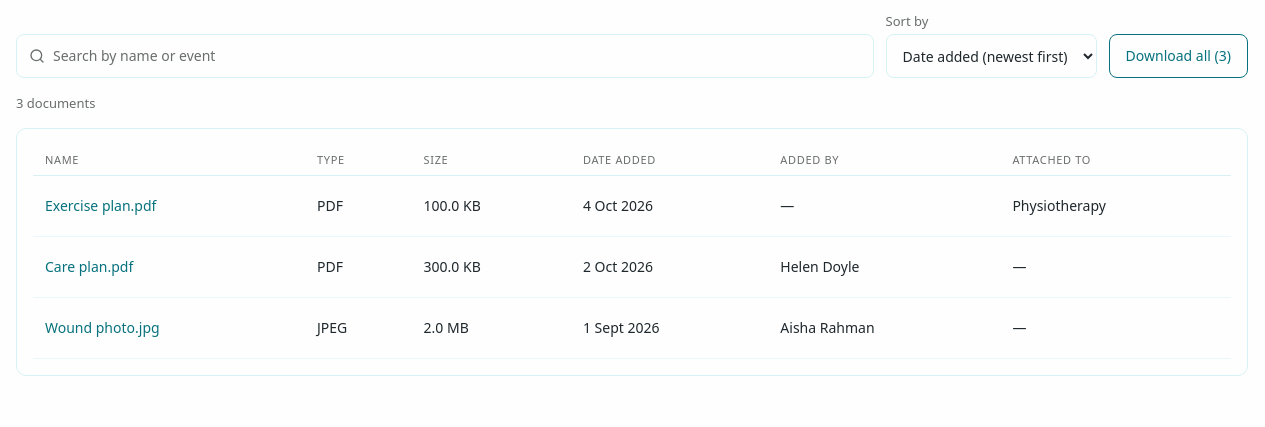
Test: [F0-25][AC-12] opening a document › [F0-25][AC-12] shows the failure message and closes the blank tab
Click the button with aria-label "Open Care plan.pdf": (89, 267) [45, 245, 133, 289]
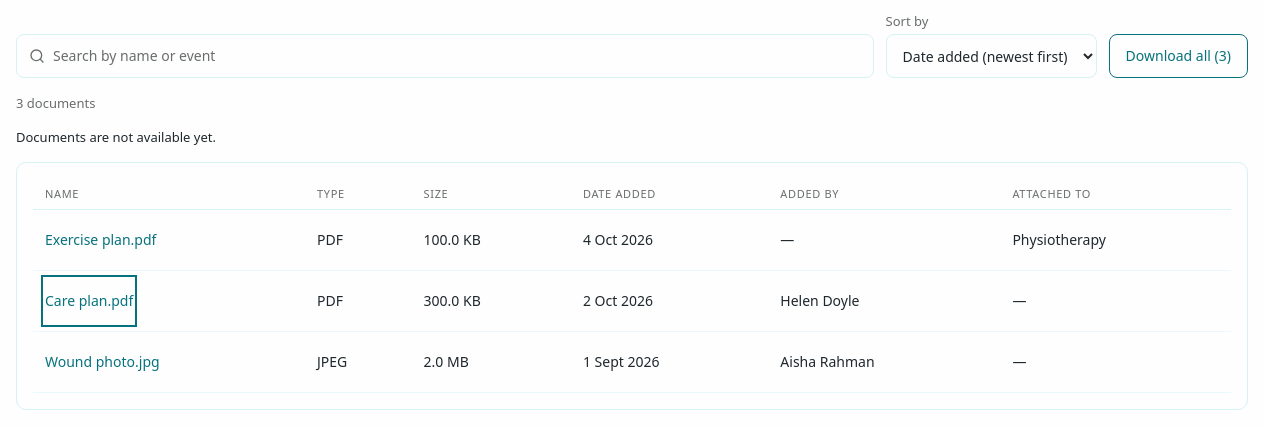
Check: the text "Documents are not available yet." is shown, box [16, 128, 216, 146]
